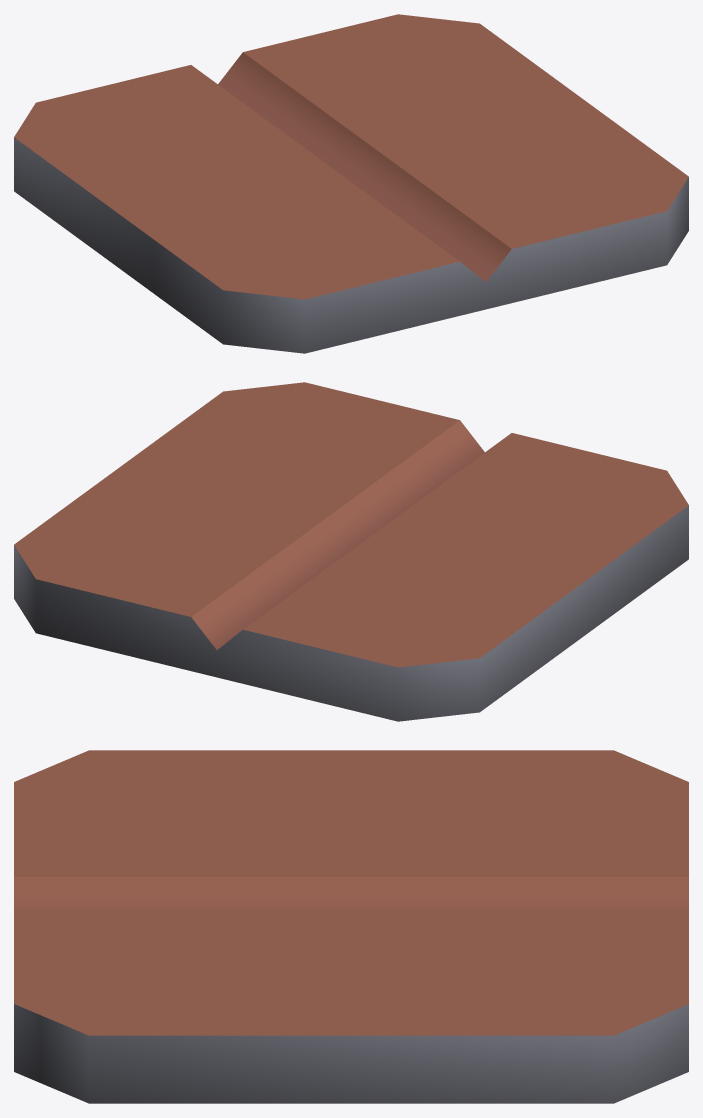
File: debris_plate.glb
3 views of the same model, one above another, from view 1: azimuth 30°, elevation 25°; view 2: azimuth 150°, elevation 25°; view 3: azimuth 270°, elevation 25° (orthographic). The views are drawn at different scales.
Parts seen in each view (by area): view 1: debris-plate-a; view 2: debris-plate-a; view 3: debris-plate-a.
Part boxes in pixels (x1=…): debris-plate-a: x1=14, y1=14, x2=688, y2=353; debris-plate-a: x1=14, y1=382, x2=688, y2=721; debris-plate-a: x1=14, y1=750, x2=688, y2=1103.
Size of the model in its own units: 1.08 by 0.1197 by 1.08.
Materials: 1 (1 with a texture image).
